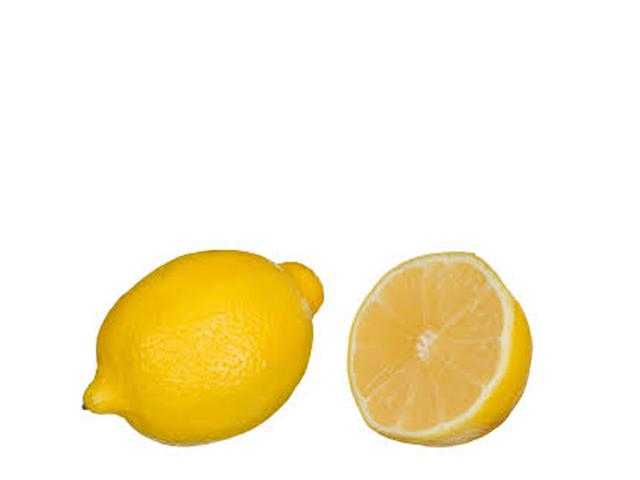lemon: (87, 245, 326, 446)
